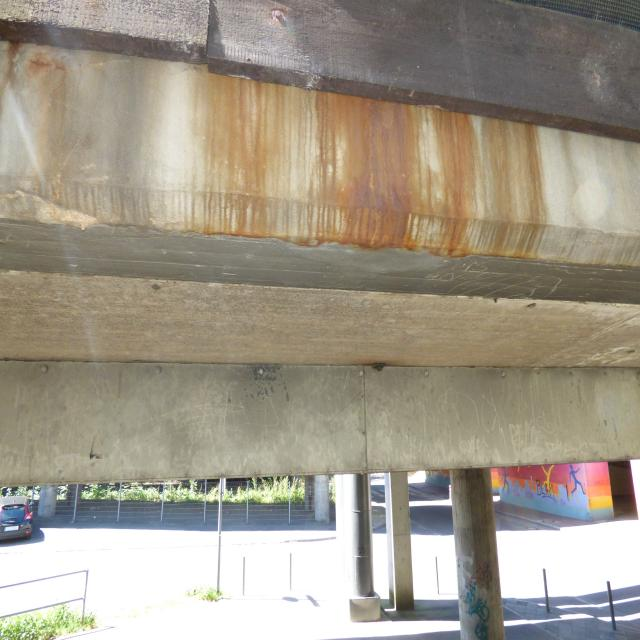corrosion: (0, 26, 640, 262)
